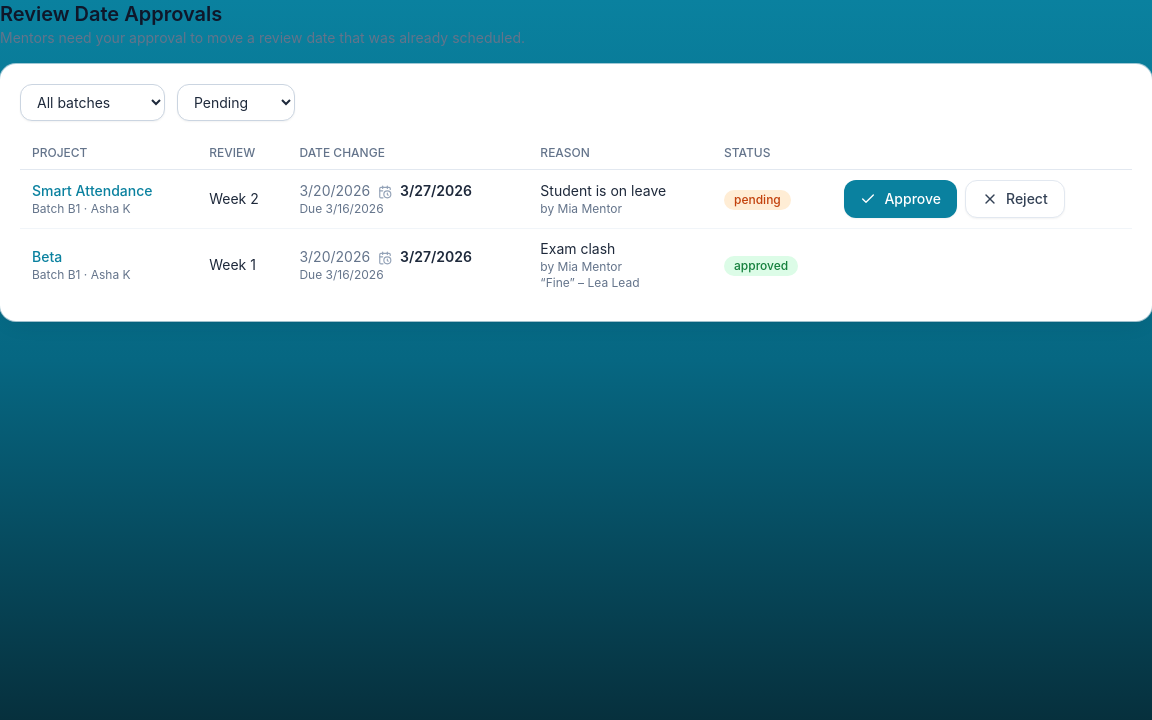
it: Date Approvals page › approving sends the decision and confirms to the lead
Click the button with aria-label "approve date change for smart attendance week 2": (901, 199) [844,180,957,218]
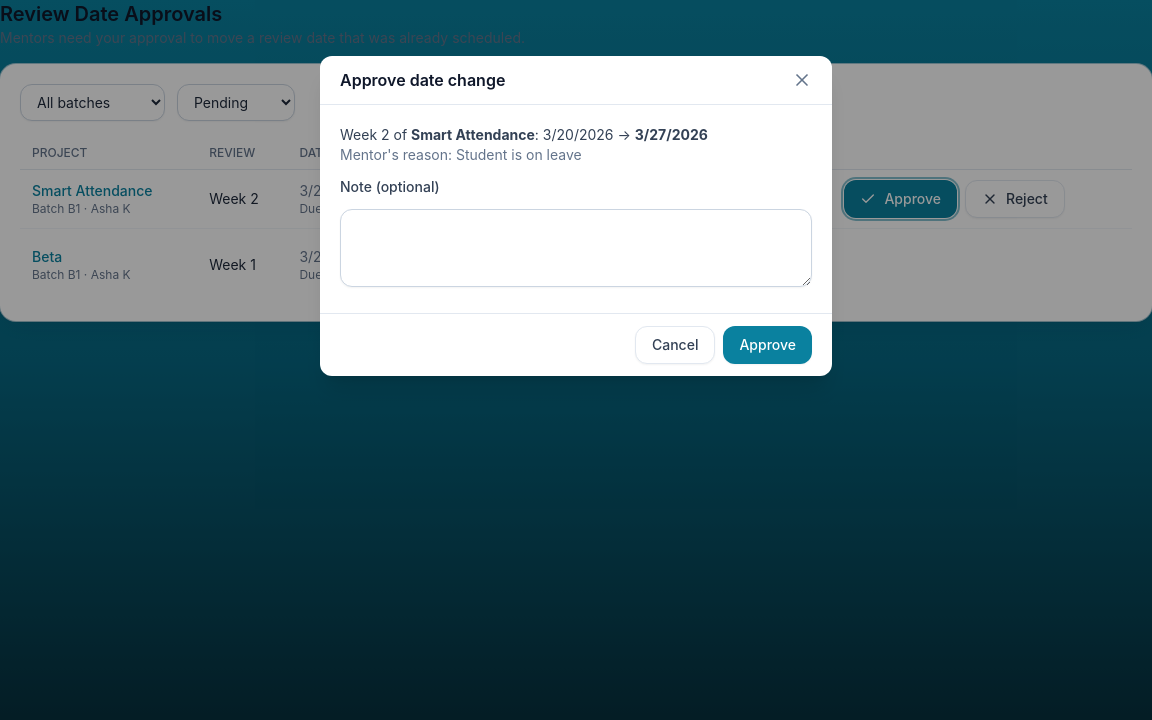
Result: the text "Mentor's reason: Student is on leave" is shown at [340,146,582,163]
In the text box labelled "Note (optional)": (576, 248) [340,209,812,287], type "Agreed"
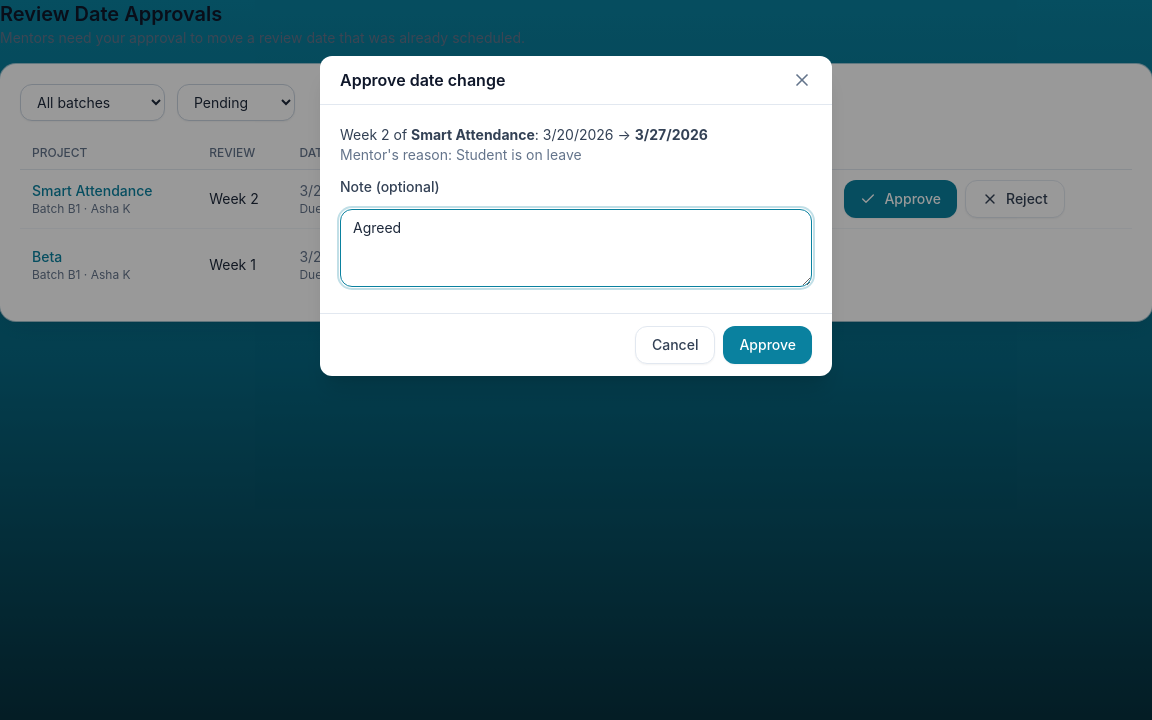
Click the button "Approve": (768, 345) [723,326,812,364]
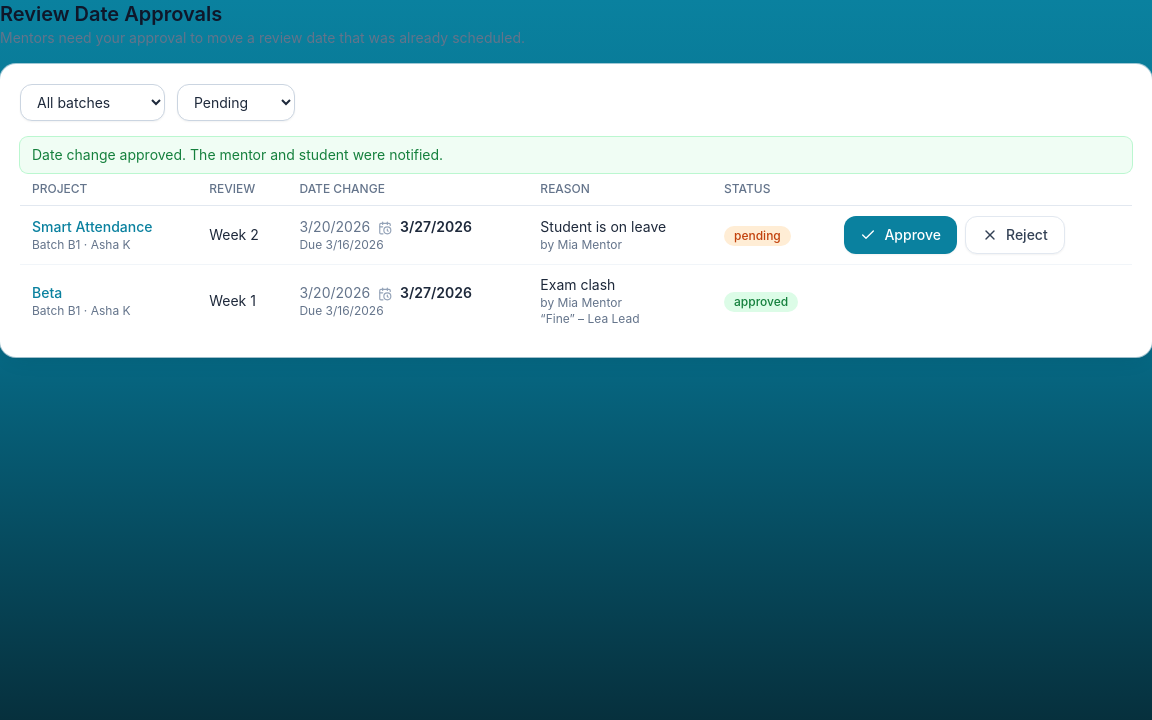
Result: the text "Date change approved. The mentor and student were notified." is shown at [20,137,1132,173]
